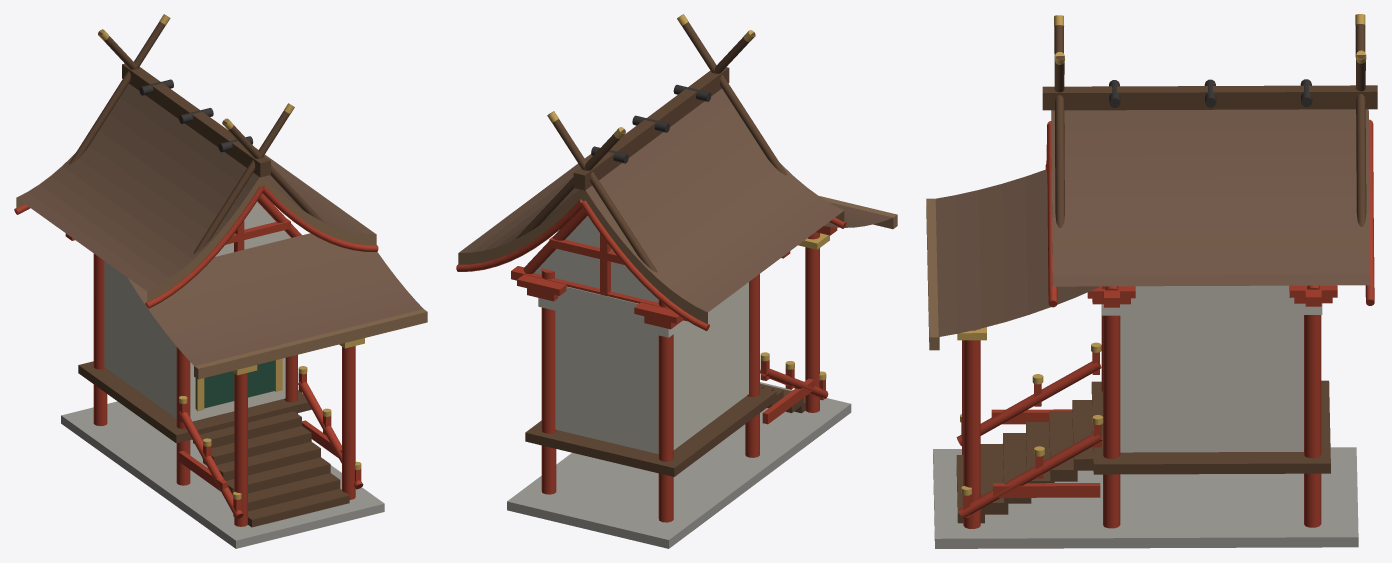
Rendered from kasuga-honden-2.glb.
3 renders of one model, left to right at view 1: azimuth 30°, elevation 25°; view 2: azimuth 150°, elevation 25°; view 3: azimuth 270°, elevation 25°, orthographic. The views are drawn at different scales.
Bounding box in the file's own units: 4.16 × 6.49 × 5.65.
